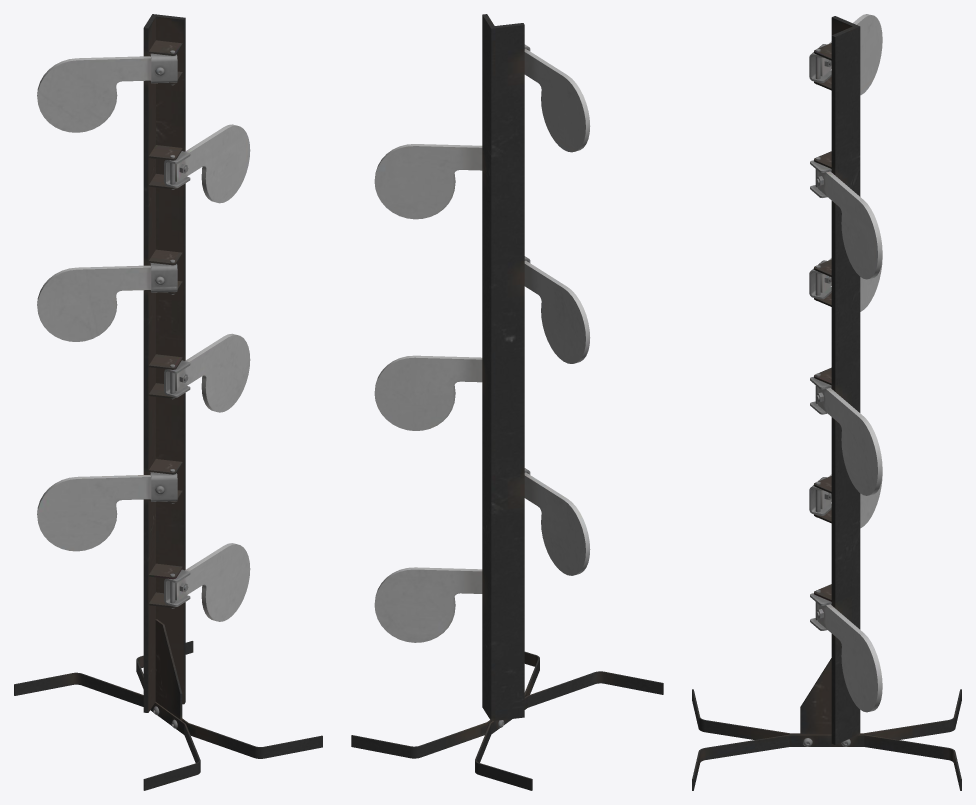
Rendered from duel_tree.gltf.
3 renders of one model, left to right at view 1: azimuth 30°, elevation 25°; view 2: azimuth 150°, elevation 25°; view 3: azimuth 270°, elevation 25°, orthographic. The views are drawn at different scales.
Visible parts, largest first — view 1: Stand, Paddle5, Paddle3, Paddle1, Paddle4, Paddle2, Paddle6; view 2: Stand, Paddle6, Paddle2, Paddle4, Paddle1, Paddle5, Paddle3; view 3: Stand, Paddle4, Paddle6, Paddle2, Paddle1, Paddle3, Paddle5.
Part boxes in pixels (left/top/right/bottom): Stand: left=14, top=14, right=322, bottom=790; Paddle5: left=37, top=472, right=177, bottom=551; Paddle3: left=37, top=263, right=177, bottom=341; Paddle1: left=37, top=53, right=177, bottom=132; Paddle4: left=164, top=333, right=250, bottom=412; Paddle2: left=164, top=124, right=250, bottom=203; Paddle6: left=164, top=543, right=250, bottom=621; Stand: left=351, top=14, right=663, bottom=790; Paddle6: left=374, top=567, right=482, bottom=642; Paddle2: left=374, top=144, right=482, bottom=219; Paddle4: left=374, top=355, right=482, bottom=430; Paddle1: left=524, top=44, right=590, bottom=152; Paddle5: left=524, top=468, right=590, bottom=575; Paddle3: left=524, top=256, right=590, bottom=363; Stand: left=692, top=16, right=961, bottom=790; Paddle4: left=810, top=376, right=882, bottom=495; Paddle6: left=810, top=593, right=882, bottom=712; Paddle2: left=810, top=160, right=882, bottom=279; Paddle1: left=809, top=14, right=882, bottom=95; Paddle3: left=809, top=257, right=882, bottom=311; Paddle5: left=809, top=473, right=882, bottom=528.
Size of the model in its own units: 0.4682 by 1.46 by 0.4969.
1 material, 1 textured.
